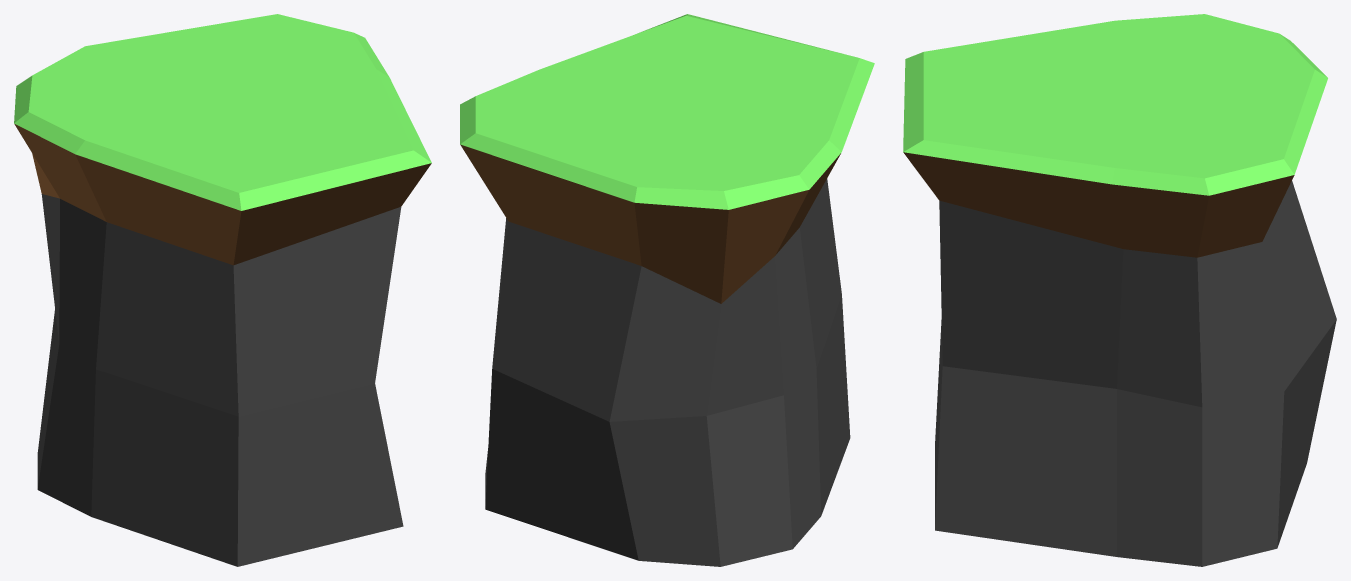
Rendered from Hill1.fbx.
3 renders of one model, left to right at view 1: azimuth 30°, elevation 25°; view 2: azimuth 150°, elevation 25°; view 3: azimuth 270°, elevation 25°, orthographic. The views are drawn at different scales.
Visible parts, largest first — view 1: Cylinder; view 2: Cylinder; view 3: Cylinder.
Boxes of the visible parts, <box> form: Cylinder: <box>14,14,431,566</box>; Cylinder: <box>460,14,874,566</box>; Cylinder: <box>903,14,1336,566</box>.
Bounding box in the file's own units: 332 × 343 × 342.
